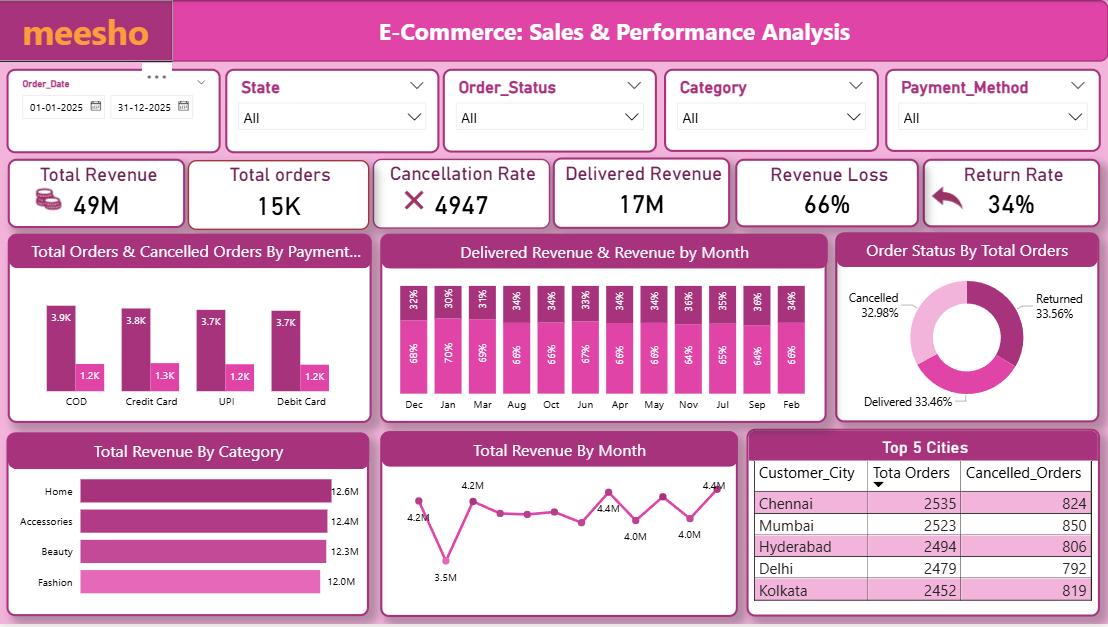

What the dashboard file says about the page in this screenshot:
{"tool":"powerbi","page":{"name":"sales and performance","canvas":[1280,720],"ordinal":2},"visuals":[{"type":"card","title":"Total Revenue","fields":{"Values":["meesho.Total Revenue"]},"box":[10,183.8,205,80],"z":0},{"type":"card","title":"Cancellation Rate","fields":{"Values":["meesho.Cancelled_Orders"]},"box":[431.9,183.4,205.1,80.8],"z":1000},{"type":"card","title":"Return Rate","fields":{"Values":["meesho.Return Rate"]},"box":[1066.5,183.4,205.1,79],"z":2000},{"type":"slicer","fields":{"Values":["meesho.State"]},"box":[261.2,78.8,247.5,97.5],"z":3000},{"type":"slicer","fields":{"Values":["meesho.Order_Date"]},"box":[8.8,78.8,247.5,97.5],"z":4000},{"type":"slicer","fields":{"Values":["meesho.Order_Status"]},"box":[512.7,79.6,247.3,96.5],"z":5000},{"type":"slicer","fields":{"Values":["meesho.Payment_Method"]},"box":[1022.5,80,248.8,96.2],"z":6000},{"type":"lineChart","fields":{"Category":["meesho.Month no"],"Y":["meesho.Total Revenue"]},"box":[440.4,497.1,412.6,214.7],"z":7000},{"type":"clusteredColumnChart","title":"Cancelled  & Returned Orders by Payment_Method","fields":{"Category":["meesho.Payment_Method"],"Y":["meesho.Tota Orders","meesho.Cancelled_Orders"]},"box":[9.7,270.2,419.8,218.4],"z":8000},{"type":"clusteredBarChart","title":"Cancelled  & Returned Orders by Month","fields":{"Category":["meesho.Category"],"Y":["meesho.Total Revenue"]},"box":[8.4,499.5,418.6,212.3],"z":9000},{"type":"donutChart","title":"Order Status Breakdown","fields":{"Category":["meesho.Order_Status"],"Y":["meesho.Tota Orders"]},"box":[965.2,269,305,219.6],"z":10000},{"type":"tableEx","title":"Top 5 Cities","fields":{"Values":["meesho.Customer_City","meesho.Tota Orders","meesho.Cancelled_Orders"]},"box":[862.6,494.6,407.8,217.2],"z":11000},{"type":"card","title":"Total orders","fields":{"Values":["meesho.Tota Orders"]},"box":[217.2,184.6,209.9,80.8],"z":12000},{"type":"slicer","fields":{"Values":["meesho.Category"]},"box":[767.5,80,248,96.2],"z":13000},{"type":"shape","box":[0,0,1168.6,70.7],"z":14000},{"type":"shape","box":[141.2,0,1138.9,71.2],"z":15000},{"type":"shape","box":[0,0,200.3,71.2],"z":16000},{"type":"actionButton","box":[36.2,208.8,53.8,41.2],"z":17000},{"type":"actionButton","box":[1069.5,202.4,51.2,52.4],"z":18000},{"type":"actionButton","box":[459.8,212.2,48.8,37.8],"z":19000},{"type":"actionButton","box":[862.3,209.1,55.8,49.4],"z":20000},{"type":"card","title":"Delivered Revenue","fields":{"Values":["meesho.Delivered Revenue"]},"box":[639.4,182.2,205.1,82],"z":21000},{"type":"hundredPercentStackedColumnChart","title":"Cancelled Orders by State","fields":{"Category":["meesho.month"],"Y":["meesho.Revenue Loss","meesho.Delivered Revenue"]},"box":[440.4,270.2,515.2,218.4],"z":22000},{"type":"card","title":"Revenue Loss","fields":{"Values":["meesho.Revenue Loss %"]},"box":[849.8,183.2,212.1,79.4],"z":23000},{"type":"shape","box":[10.9,270.2,418.6,39.8],"z":24000},{"type":"shape","box":[441.5,269.8,515.1,40.4],"z":25000},{"type":"shape","box":[966.4,267.8,301.6,39.8],"z":26000},{"type":"shape","box":[9.7,499.5,417.4,42.2],"z":27000},{"type":"shape","box":[441.6,497.1,411.4,41],"z":28000}]}

Visuals, with their boxes in screenshot pixels (x1, y1, x2, y2), scaled from the page's 1280x720 canvas onto the 1108x627 screenshot:
"Total Revenue" card: <region>9, 160, 186, 230</region>
"Cancellation Rate" card: <region>374, 160, 551, 230</region>
"Return Rate" card: <region>923, 160, 1101, 229</region>
slicer - meesho.State: <region>226, 69, 440, 154</region>
slicer - meesho.Order_Date: <region>8, 69, 222, 154</region>
slicer - meesho.Order_Status: <region>444, 69, 658, 153</region>
slicer - meesho.Payment_Method: <region>885, 70, 1100, 153</region>
lineChart - meesho.Month no x meesho.Total Revenue: <region>381, 433, 738, 620</region>
"Cancelled  & Returned Orders by Payment_Method" clusteredColumnChart: <region>8, 235, 372, 425</region>
"Cancelled  & Returned Orders by Month" clusteredBarChart: <region>7, 435, 370, 620</region>
"Order Status Breakdown" donutChart: <region>836, 234, 1100, 425</region>
"Top 5 Cities" tableEx: <region>747, 431, 1100, 620</region>
"Total orders" card: <region>188, 161, 370, 231</region>
slicer - meesho.Category: <region>664, 70, 879, 153</region>
shape: <region>0, 0, 1012, 62</region>
shape: <region>122, 0, 1107, 62</region>
shape: <region>0, 0, 173, 62</region>
actionButton: <region>31, 182, 78, 218</region>
actionButton: <region>926, 176, 970, 222</region>
actionButton: <region>398, 185, 440, 218</region>
actionButton: <region>746, 182, 795, 225</region>
"Delivered Revenue" card: <region>553, 159, 731, 230</region>
"Cancelled Orders by State" hundredPercentStackedColumnChart: <region>381, 235, 827, 425</region>
"Revenue Loss" card: <region>736, 160, 919, 229</region>
shape: <region>9, 235, 372, 270</region>
shape: <region>382, 235, 828, 270</region>
shape: <region>837, 233, 1098, 268</region>
shape: <region>8, 435, 370, 472</region>
shape: <region>382, 433, 738, 469</region>
